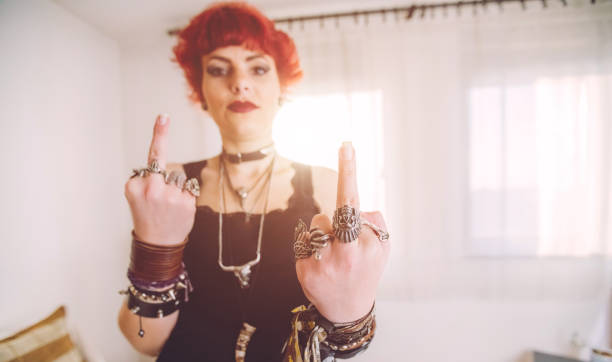insulting_gesture: (290, 141, 390, 317), (124, 112, 199, 238)
